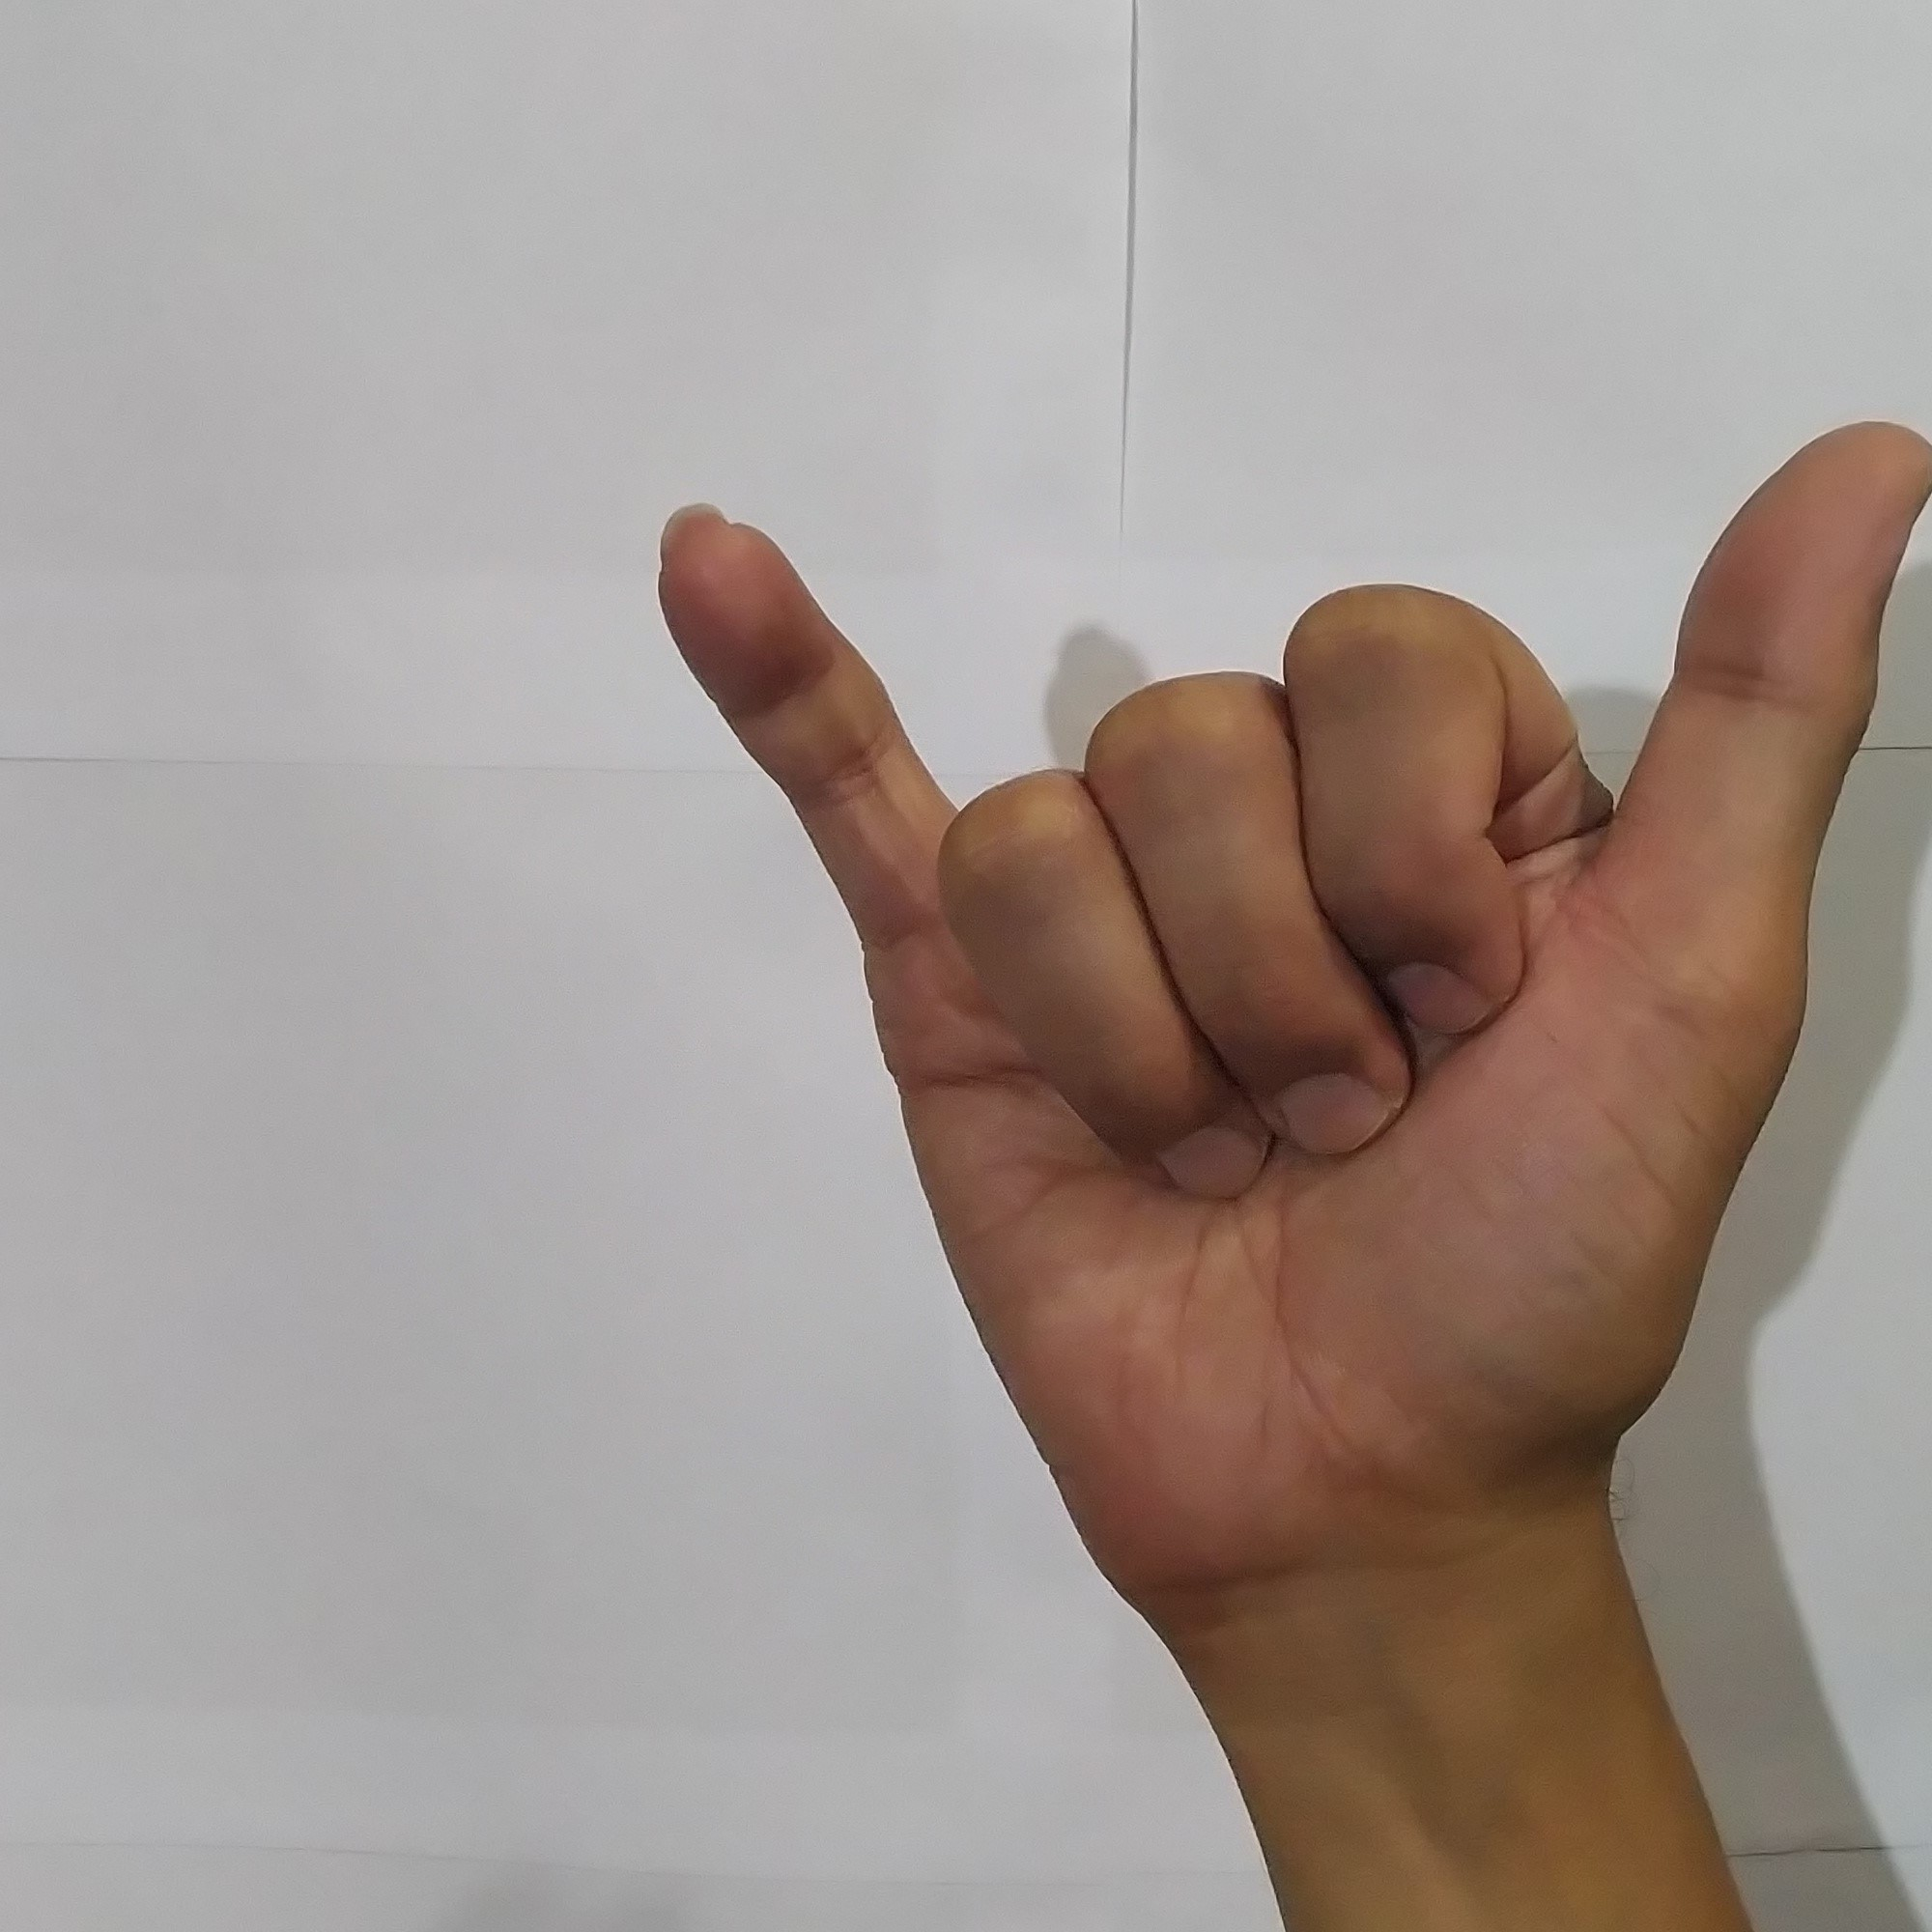Y: (619, 395, 1932, 1582)
